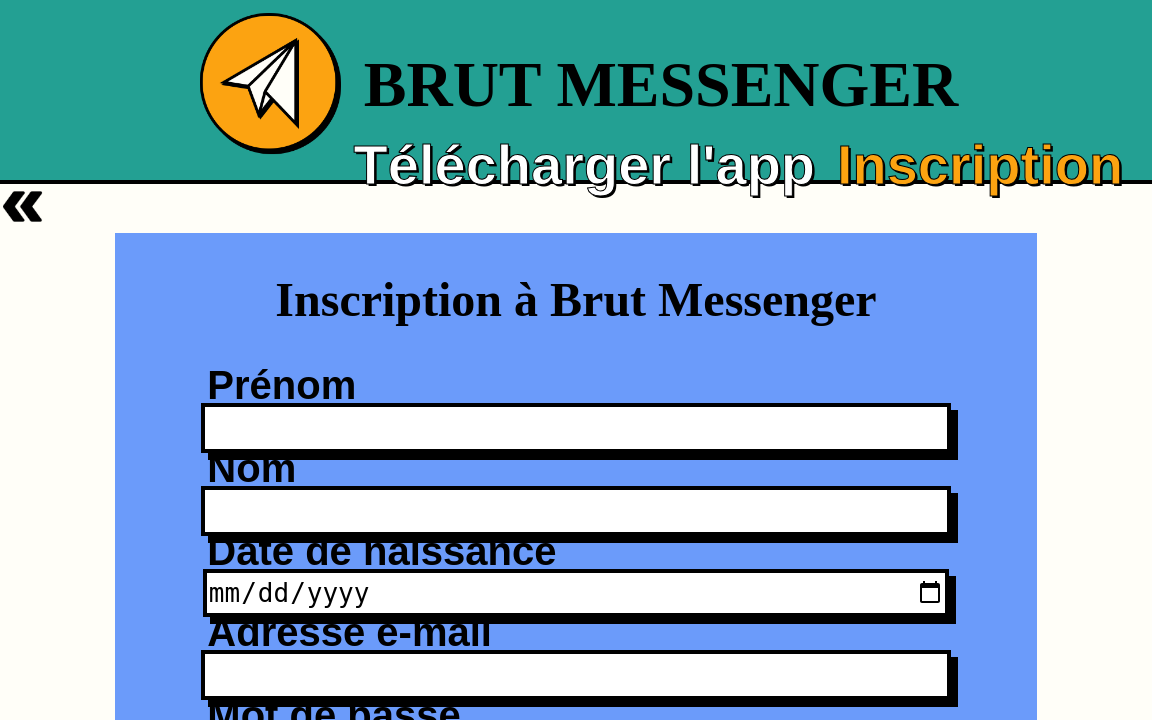
Test: addUserForm › error-empty-email
Step 1. Type "Maxime" into the field with id "first-name" → point(576, 428), box [201,403,950,453]
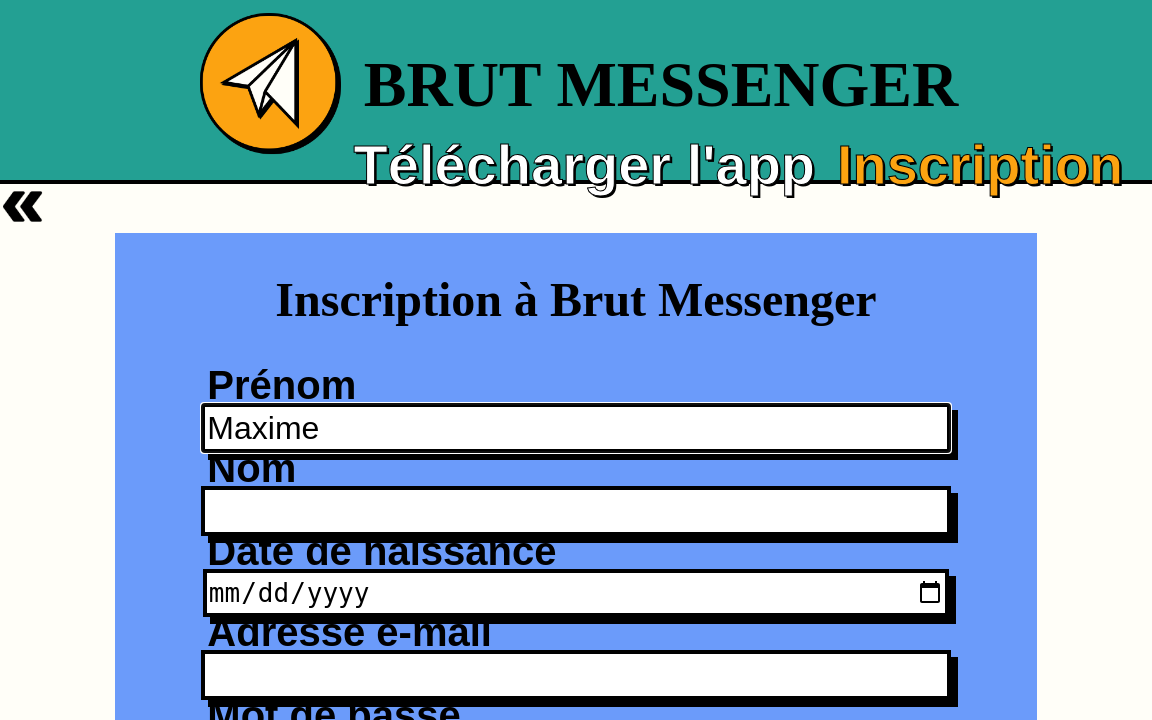
Step 2. Type "Authié" into the field with id "last-name" → point(576, 511), box [201,486,950,536]
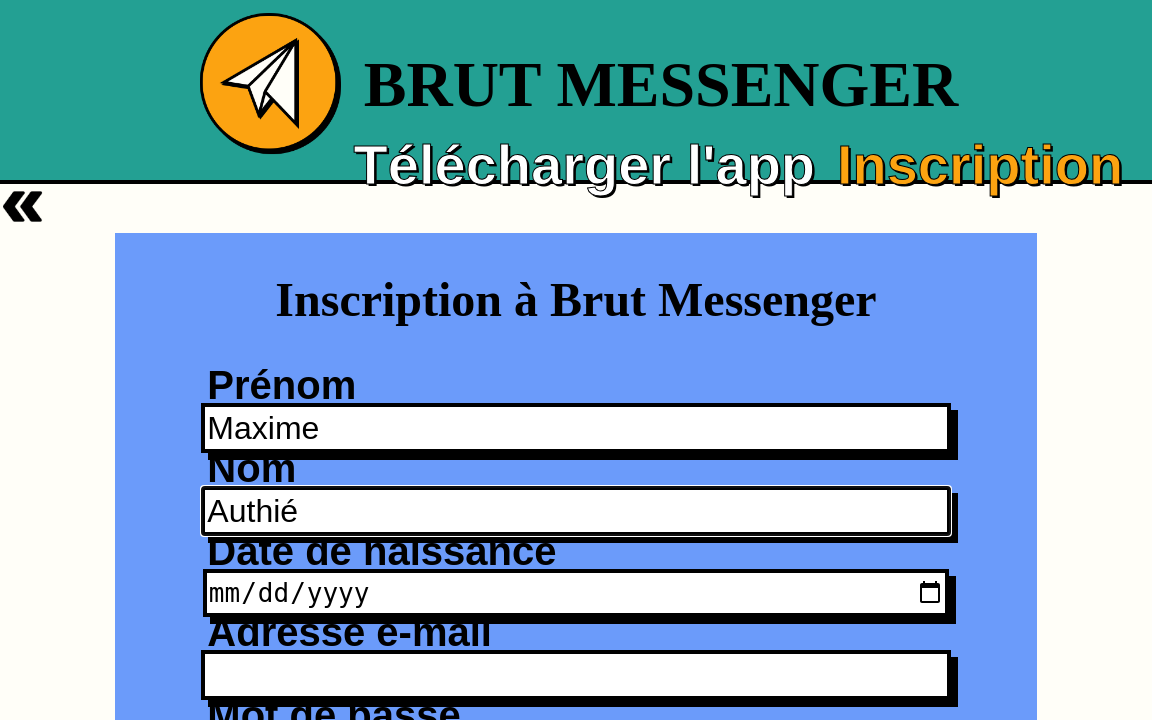
Step 3. Scroll
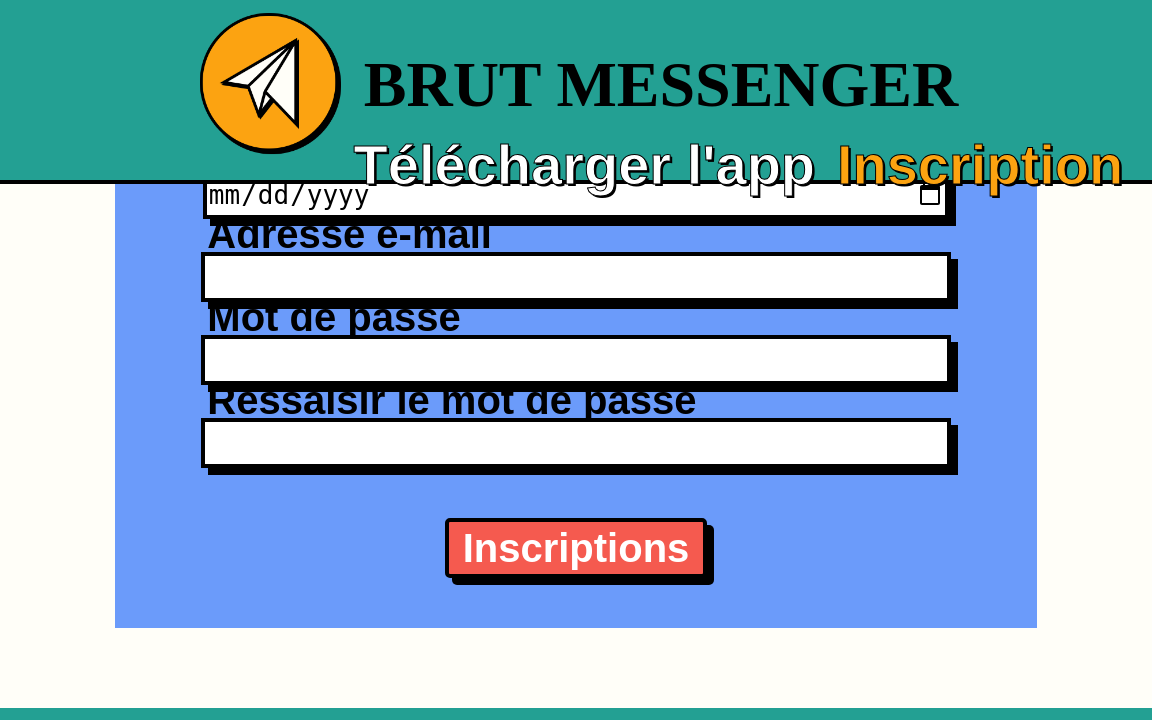
Step 4. Type "Azerty99" into the password field labelled "Mot de passe" → point(576, 360), box [201,335,950,385]
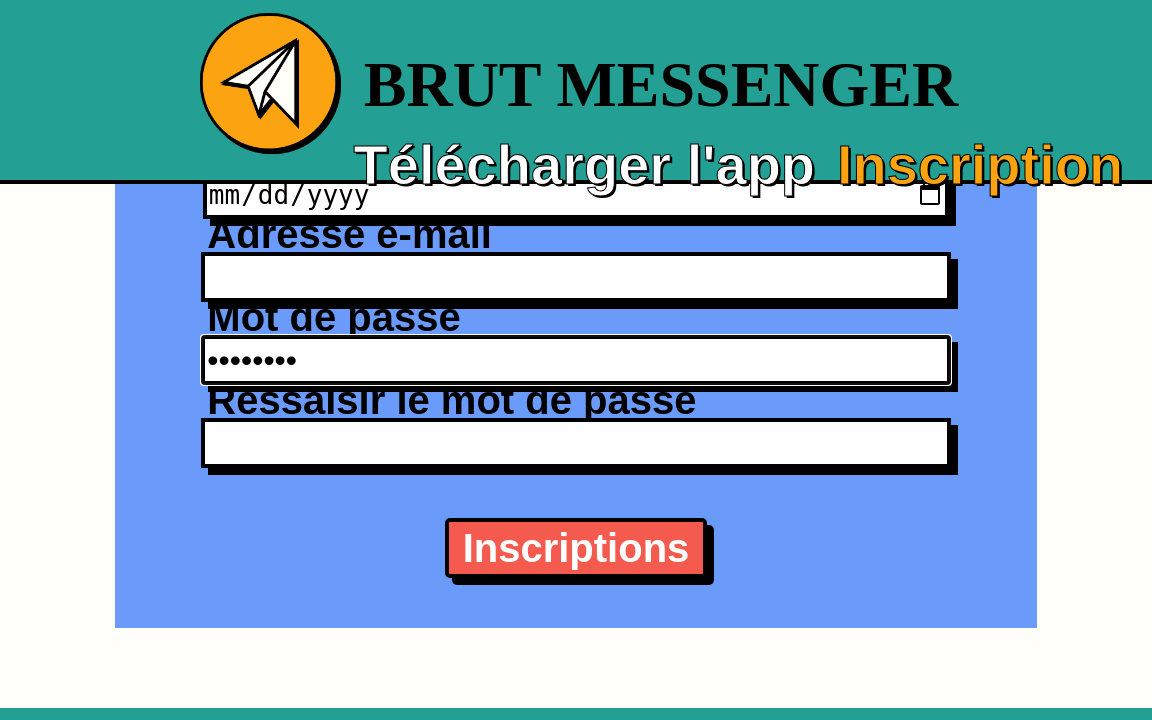
Step 5. Type "Azerty99" into the password field with id "re-password" → point(576, 443), box [201,418,950,468]
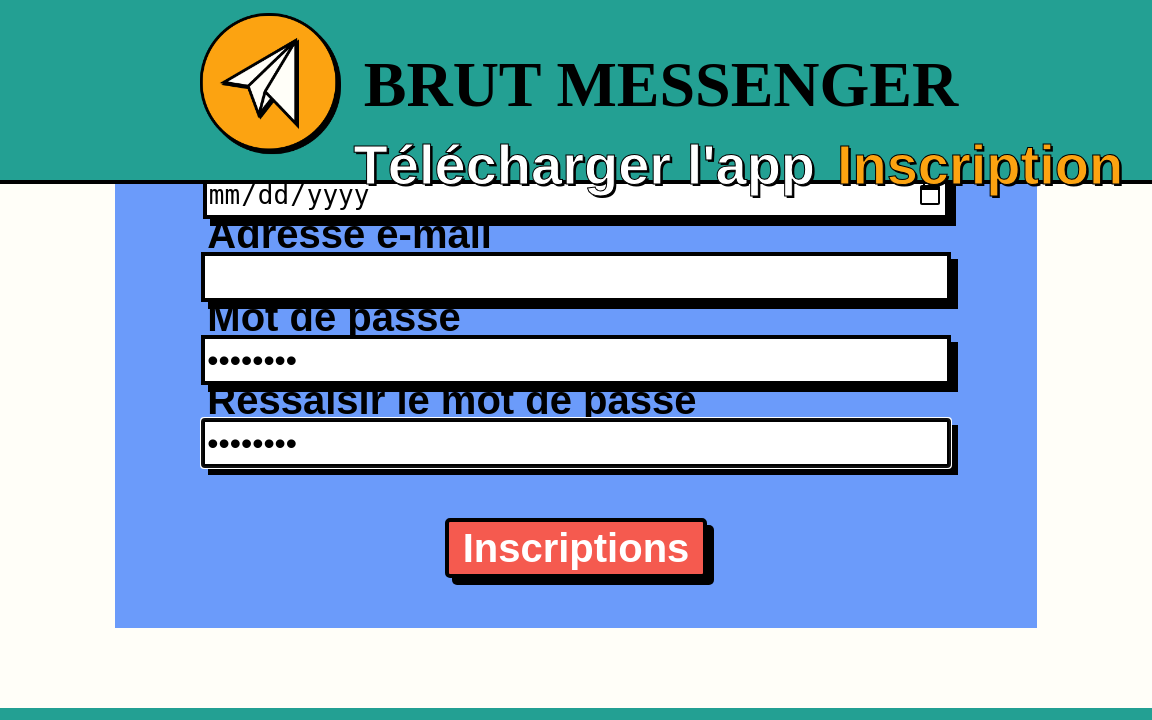
Step 6. Click the 2nd field → point(576, 548), box [445,518,707,578]
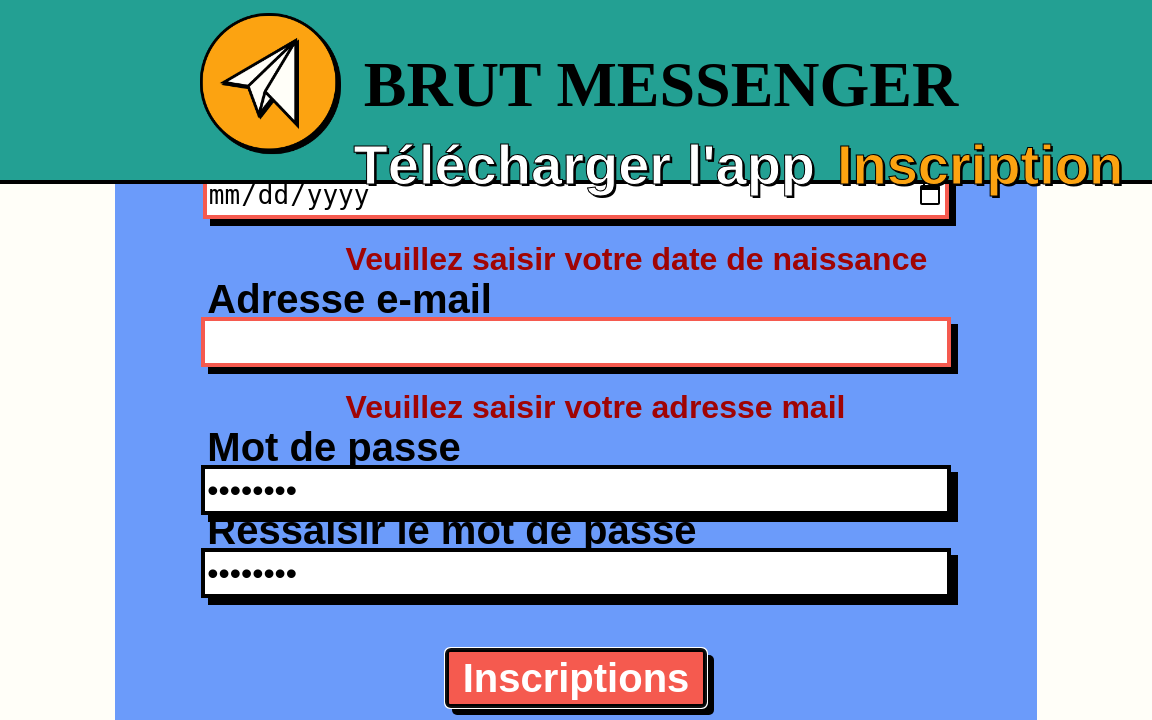
Now the text with id "emailEmpty" reads "Veuillez saisir votre adresse mail", box [346,389,846,425]
